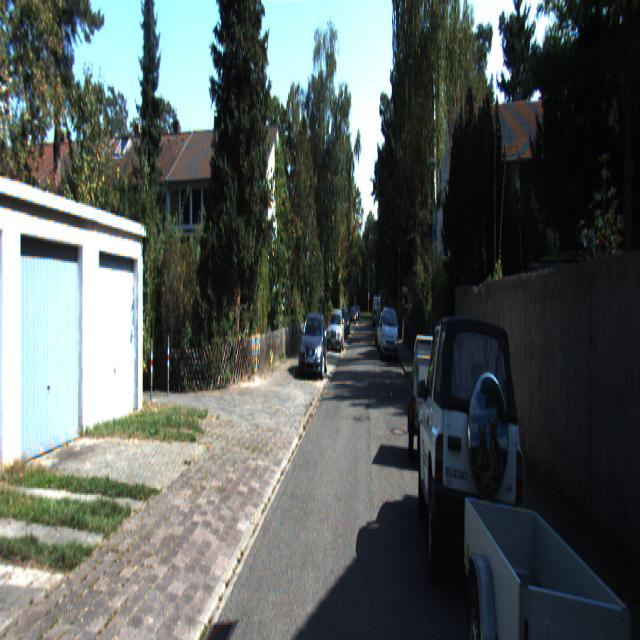Car: (420, 313, 531, 626), (465, 492, 639, 638), (410, 327, 453, 467), (300, 310, 329, 380), (381, 308, 399, 364), (327, 309, 345, 351)
